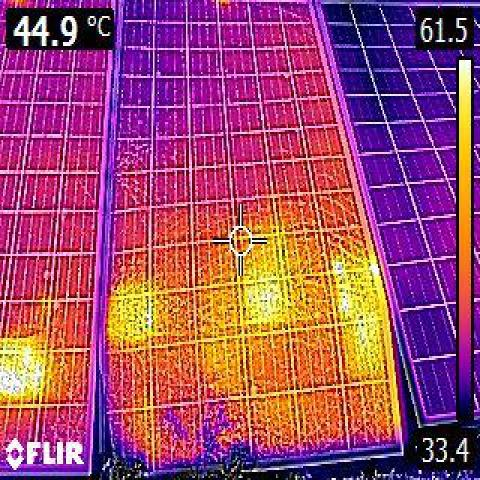fault: (244, 282, 288, 327), (2, 355, 42, 402), (345, 325, 383, 374), (109, 292, 147, 337), (338, 268, 373, 316)
